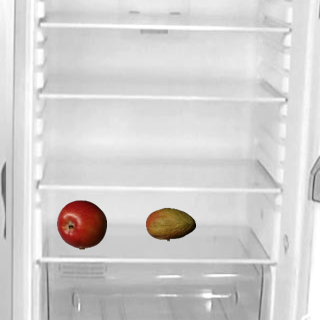Apple Braeburn: (56, 199, 106, 249)
Papaya: (145, 199, 195, 249)
